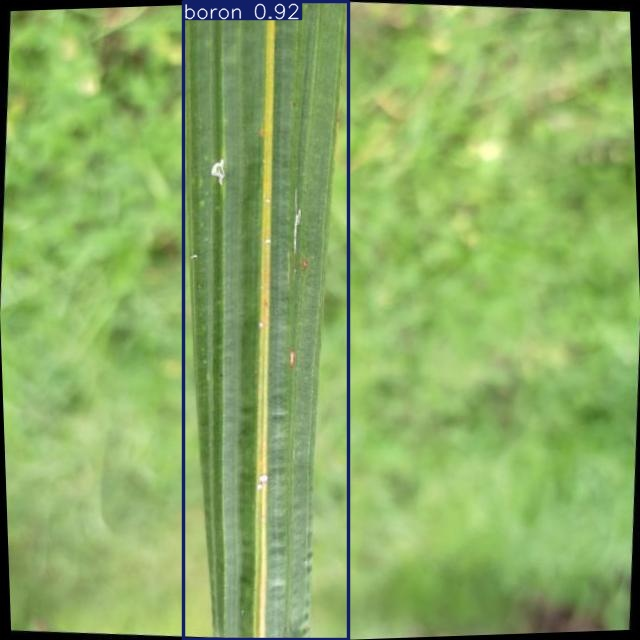nitrogen: (184, 2, 348, 639)
